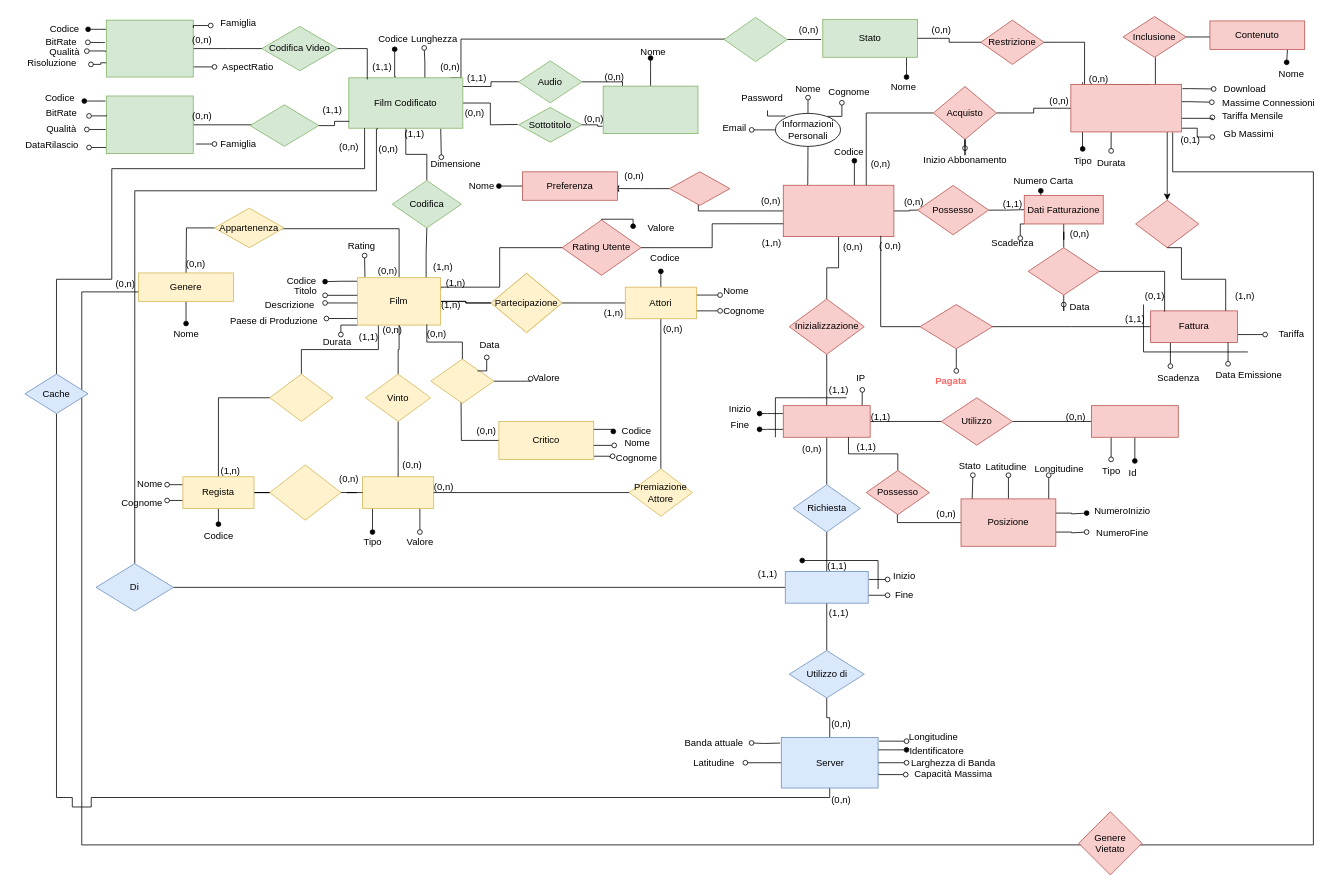
Image size: 1337x889. Some labels were removed from this diagram. The box of each missing label's shape, as (x1, y1, x2, y2) in pixels:
Abbonamento: (1070, 84, 1181, 132)
Codifica audio: (249, 104, 319, 146)
Connessione: (782, 405, 870, 437)
Direzione: (269, 373, 333, 421)
Dispositivo: (1091, 405, 1178, 437)
Formato Audio: (106, 95, 193, 154)
Formato Video: (106, 19, 193, 77)
Lingua: (602, 85, 698, 134)
Pagamento: (1027, 247, 1099, 295)
Premiazione Regista: (269, 464, 341, 520)
Premio: (362, 476, 434, 508)
Recensione: (430, 358, 494, 403)
Selezione: (669, 171, 730, 205)
Servizio: (1135, 199, 1199, 248)
Utente: (782, 184, 894, 237)
UtenteFattura: (919, 304, 993, 349)
Vietato: (723, 17, 787, 62)
Visualizzazione: (784, 571, 868, 603)
